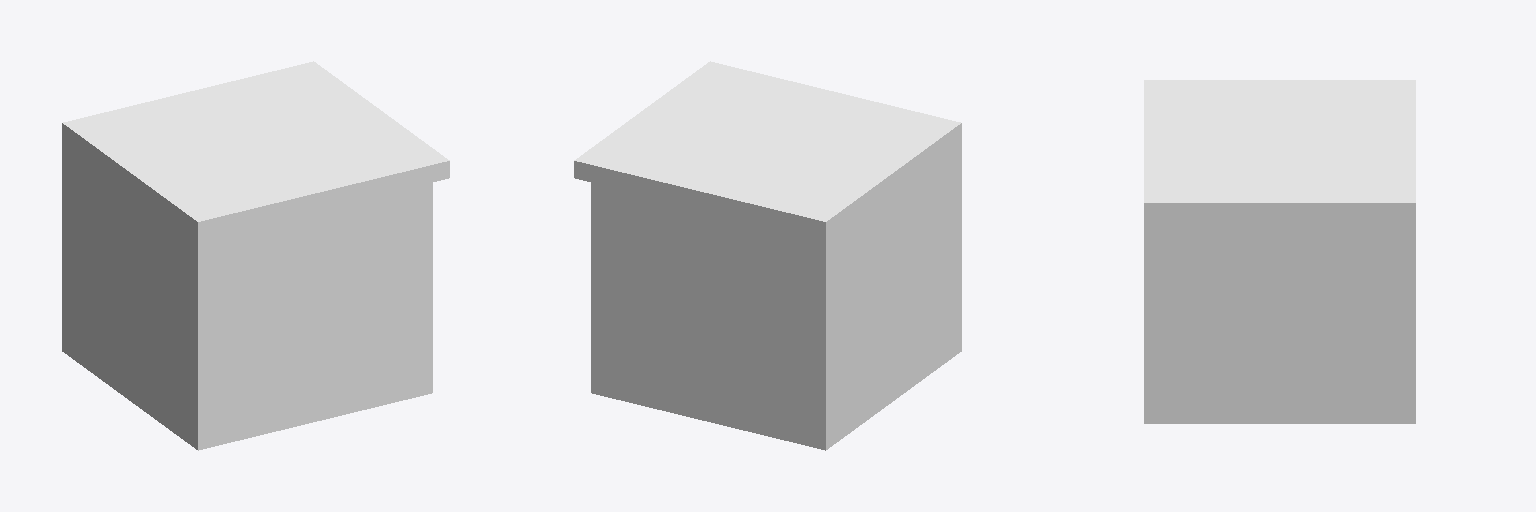
File: Things-7.obj
3 renders of one model, left to right at view 1: azimuth 30°, elevation 25°; view 2: azimuth 150°, elevation 25°; view 3: azimuth 270°, elevation 25°, orthographic.
Visible parts, largest first — view 1: Things-7; view 2: Things-7; view 3: Things-7.
Part boxes in pixels (bbox=[...]): Things-7: bbox=[62, 61, 449, 450]; Things-7: bbox=[574, 61, 961, 450]; Things-7: bbox=[1144, 80, 1415, 423].
Bounding box in the file's own units: 15 × 13 × 14.